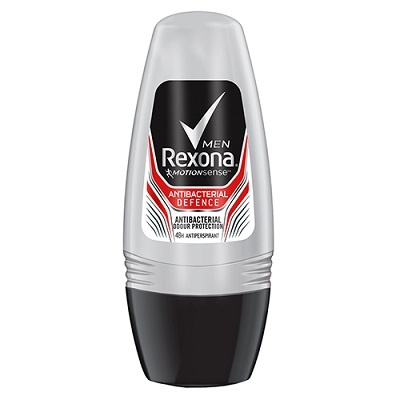rexona: (118, 10, 273, 387)
